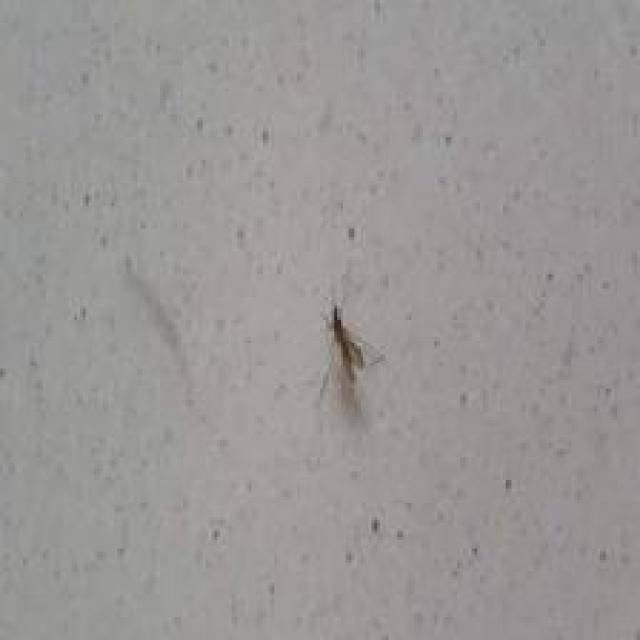Culex: (314, 303, 386, 414)
